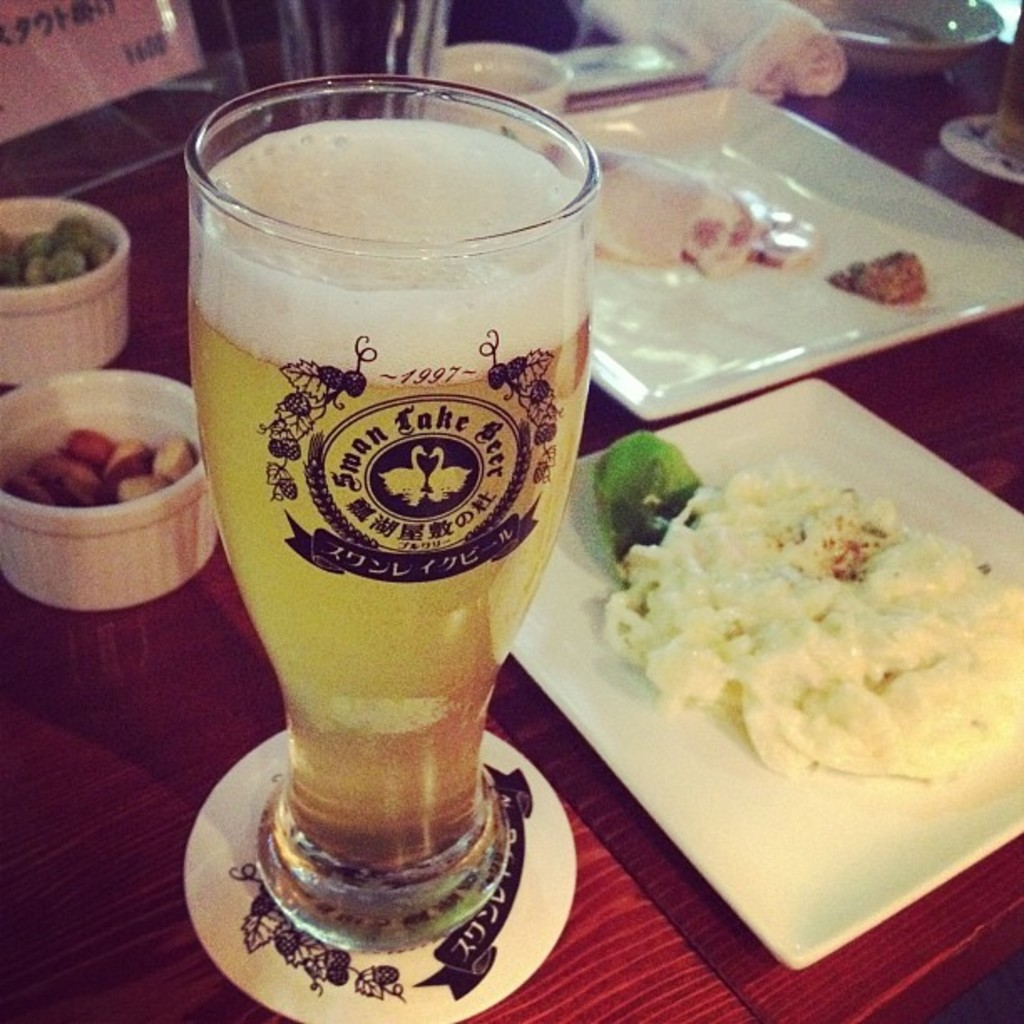Beer: (172, 43, 565, 995)
